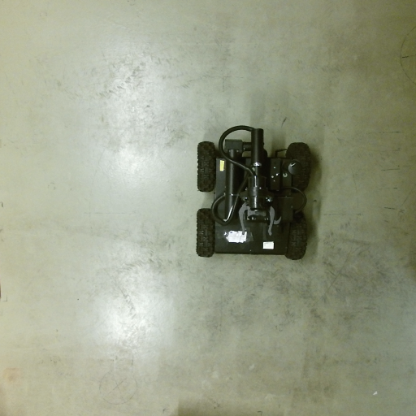Jaguar: (194, 125, 313, 262)
